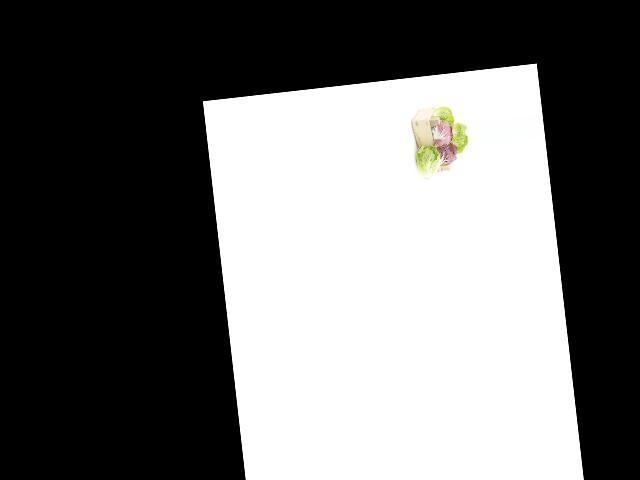lettuce: (445, 121, 469, 154)
